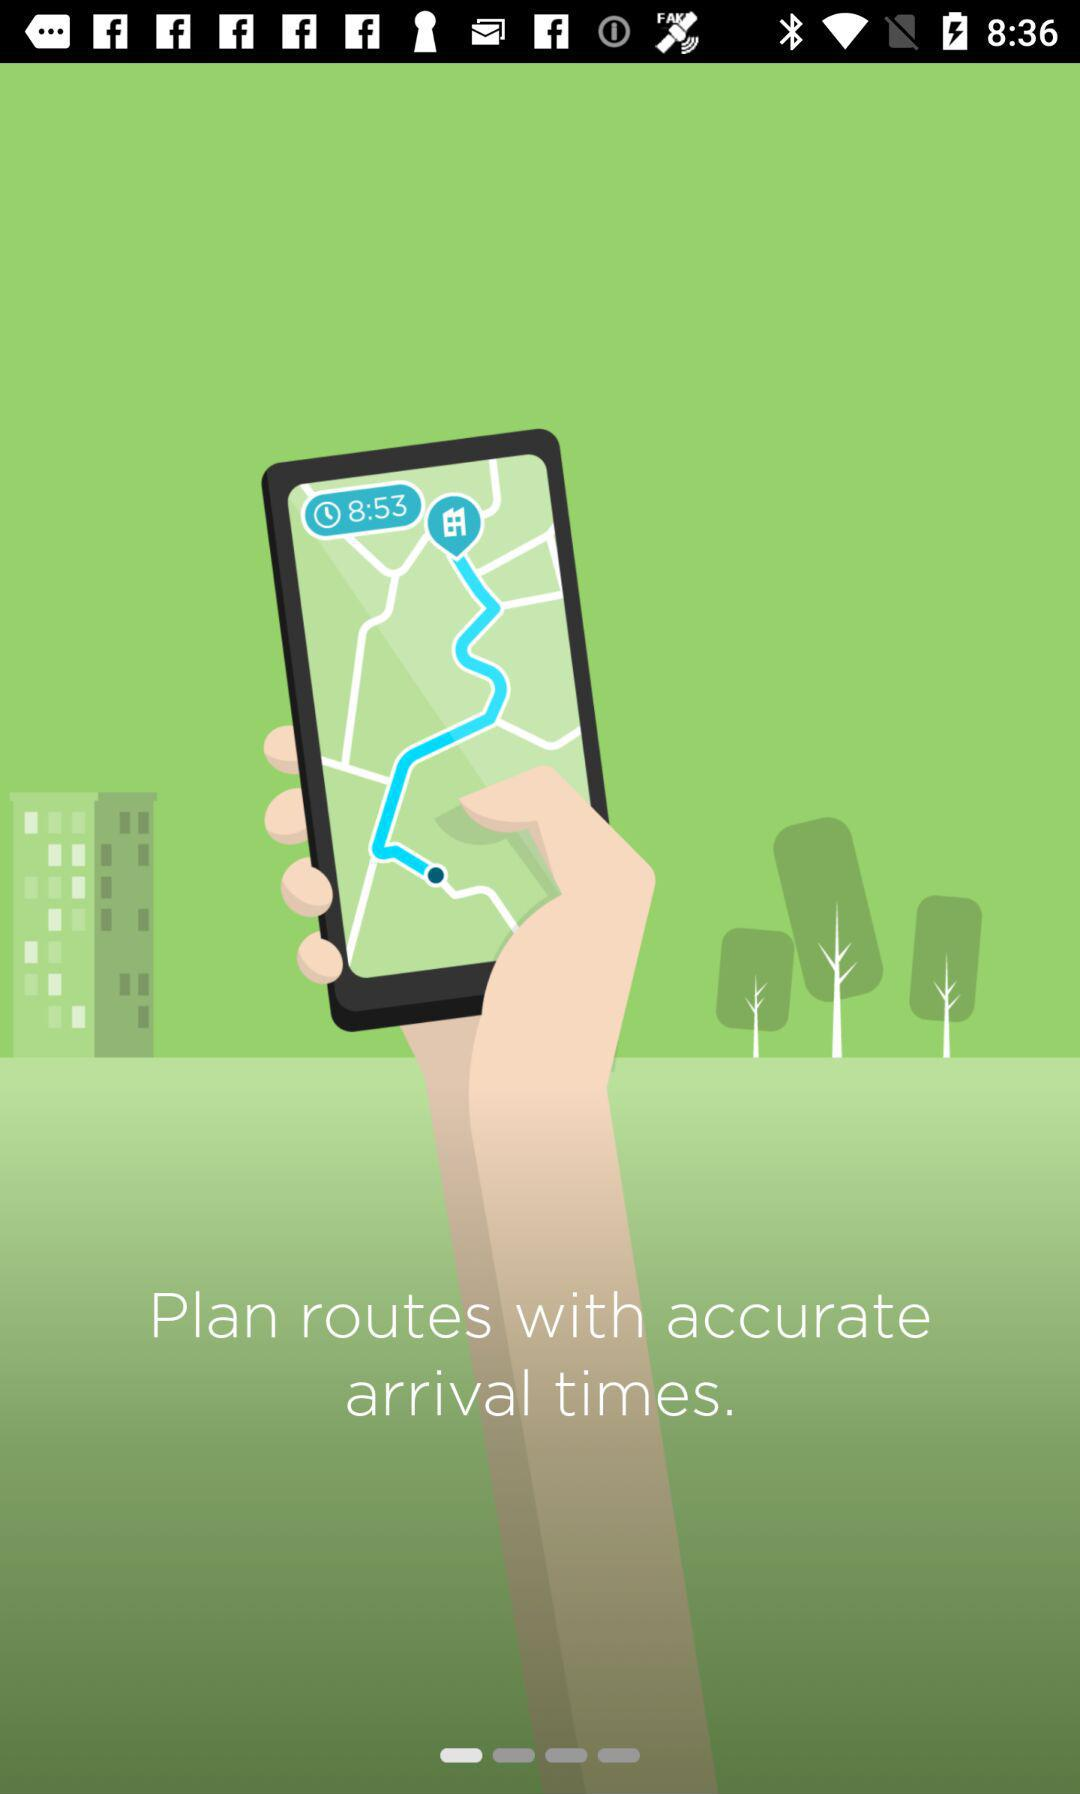BackgroundImage: (1, 64, 1080, 1794)
PageIndicator: (439, 1747, 642, 1765)
Text: (152, 1290, 930, 1417)
UpperTaskBar: (1, 1, 1080, 64)
